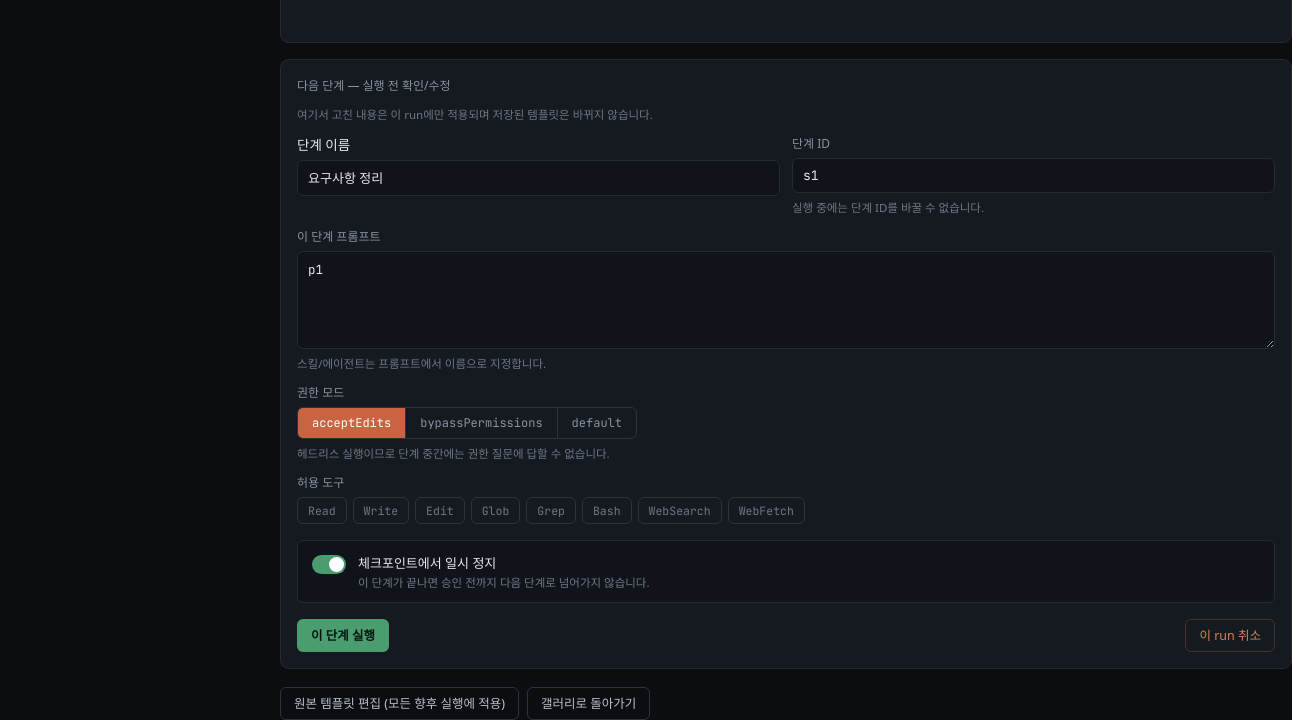
Test: PipelineRun › shows an error for any startStage failure that is not a stale stage index
(page scrolled)
Click the button "이 단계 실행" at (343,635), box [297,618,389,652]
(page scrolled)
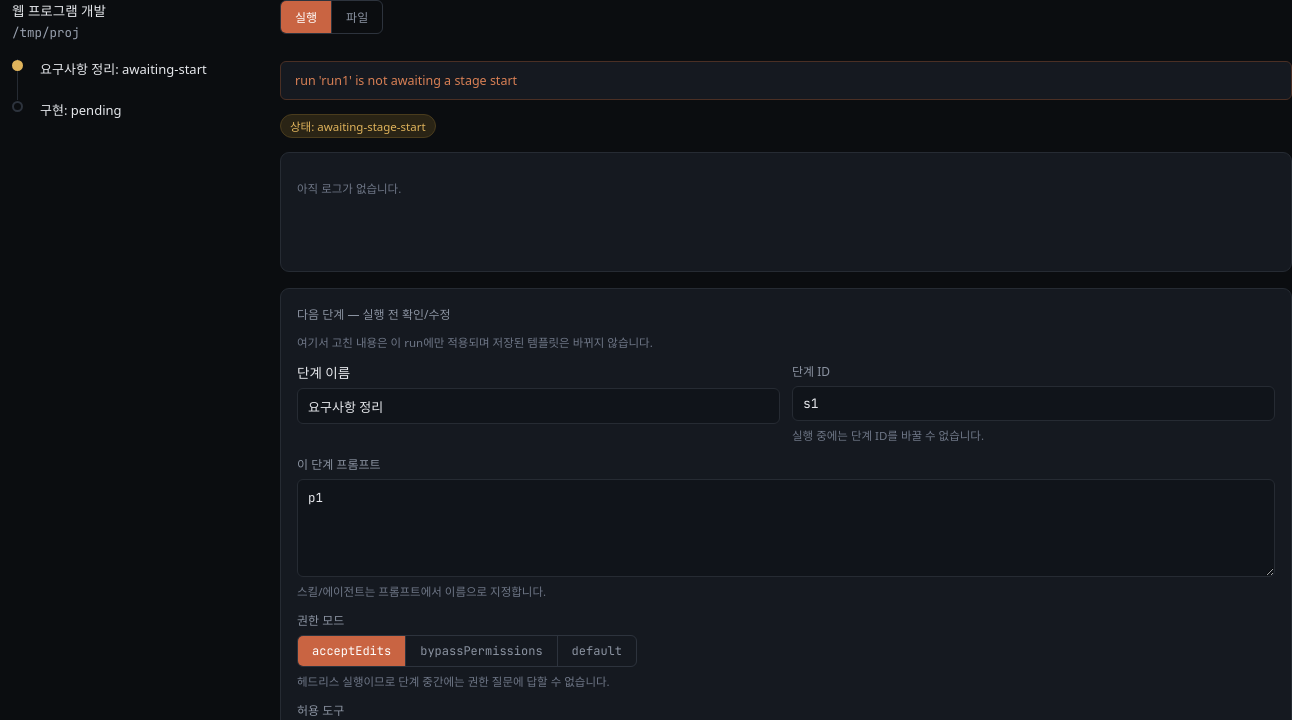
Expected: the message shows "not awaiting a stage start", [295,72,517,88]
